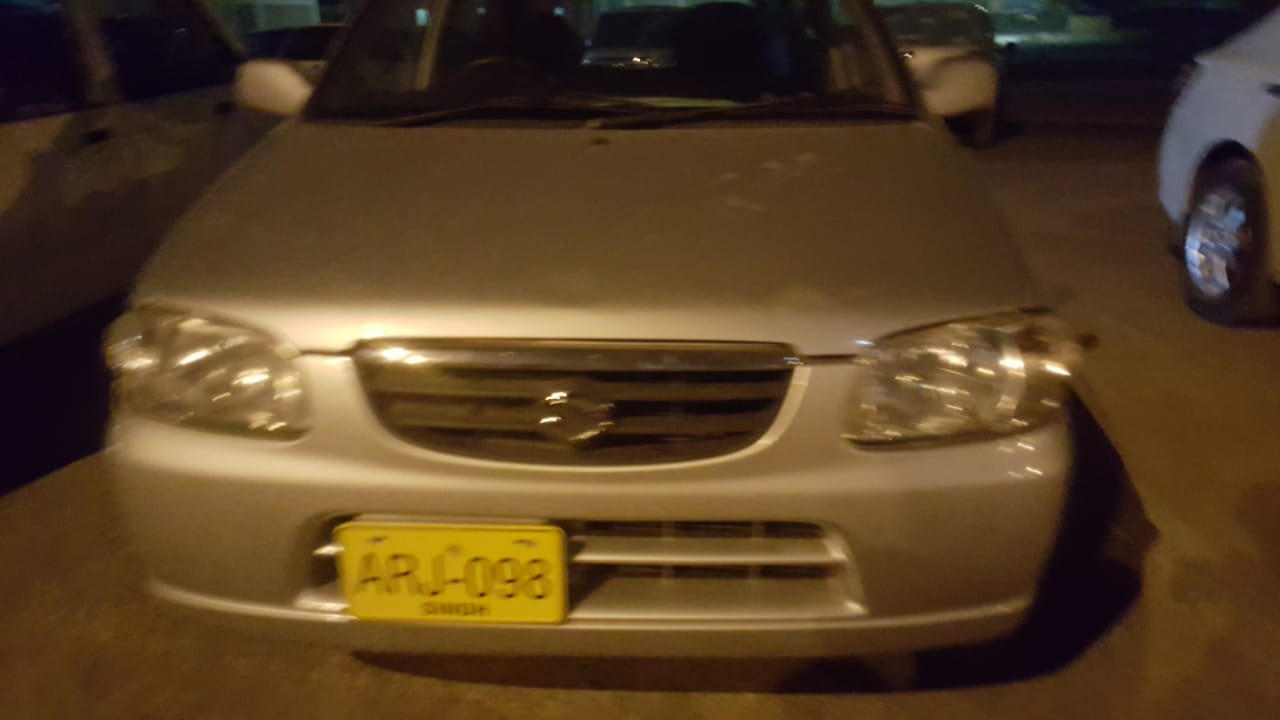license plate: (333, 523, 568, 622)
